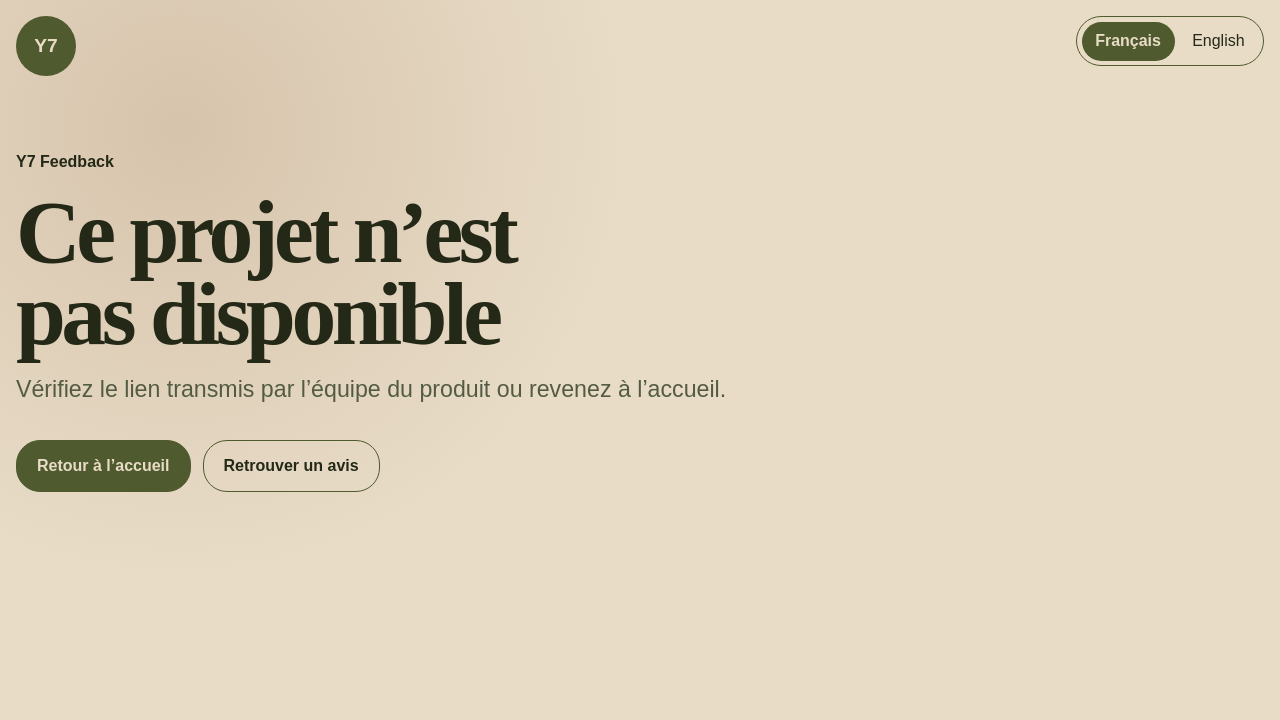
Test: WiseMoney feedback intake › BDD-PROJ-003 uses one bilingual neutral screen for unknown Projects
The image size is (1280, 720).
expect the heading "Ce projet n’est pas disponible" is shown: met, box [16,191,554,356]
Click the button "English" at (1218, 41), box [1178,22,1258,61]
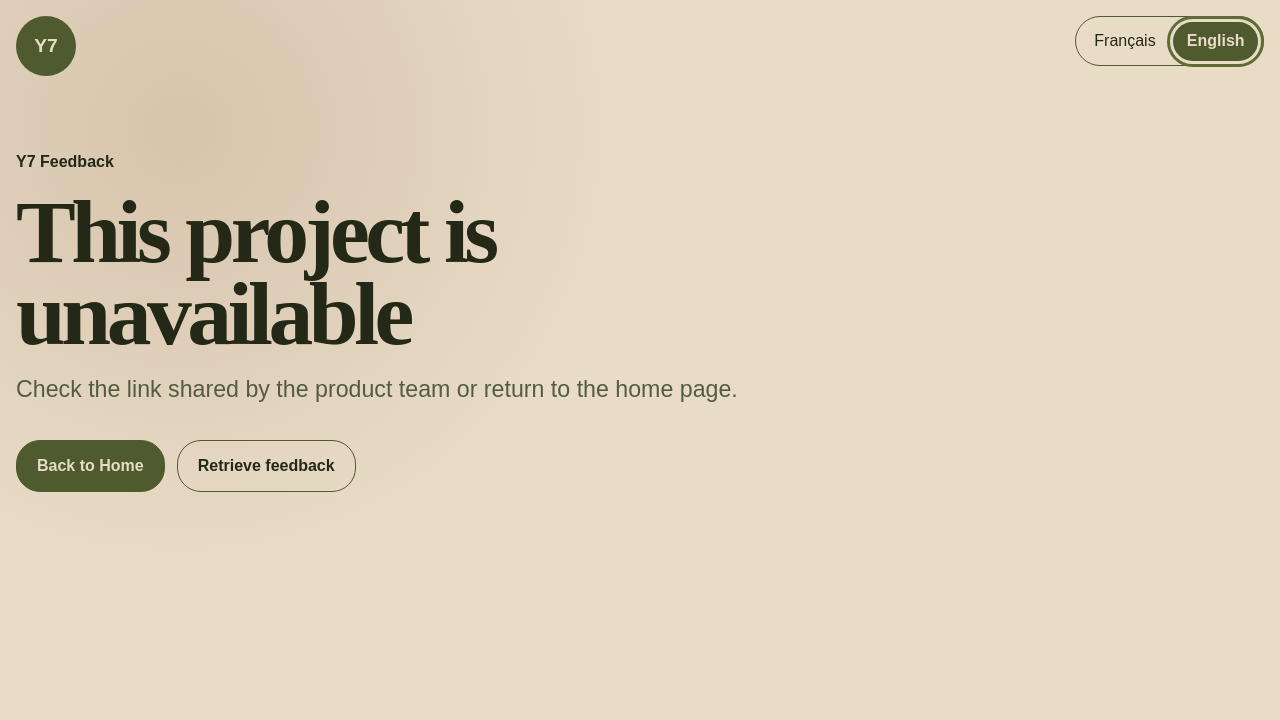
expect the heading "This project is unavailable" is shown: met, box [16,191,554,356]
